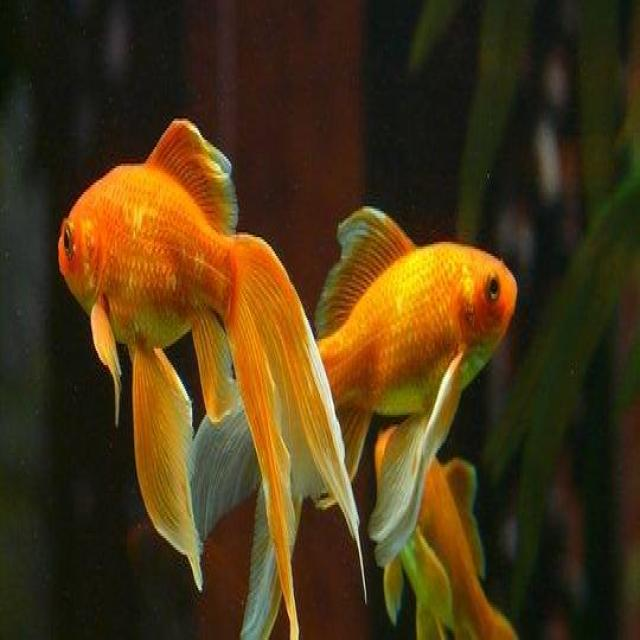GoldFish: (54, 114, 368, 640), (266, 217, 516, 568)
